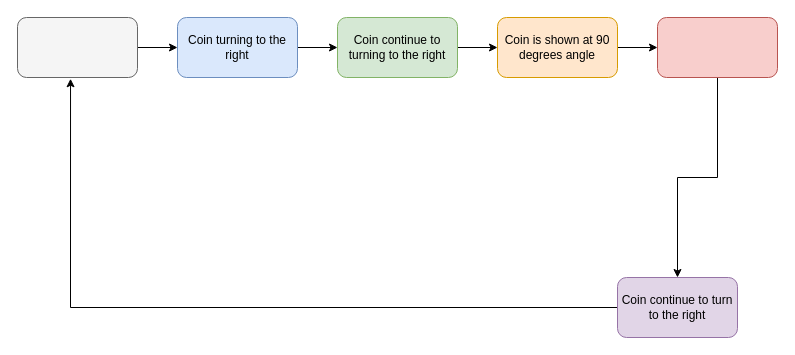
Some shapes in this 795 by 355 pixel diagram are drawn without their labels. Each missing label, with the box of its shape:
Coin continue to turn anitclockwise: (656, 16, 778, 78)
Steady Coin: (16, 16, 138, 78)
